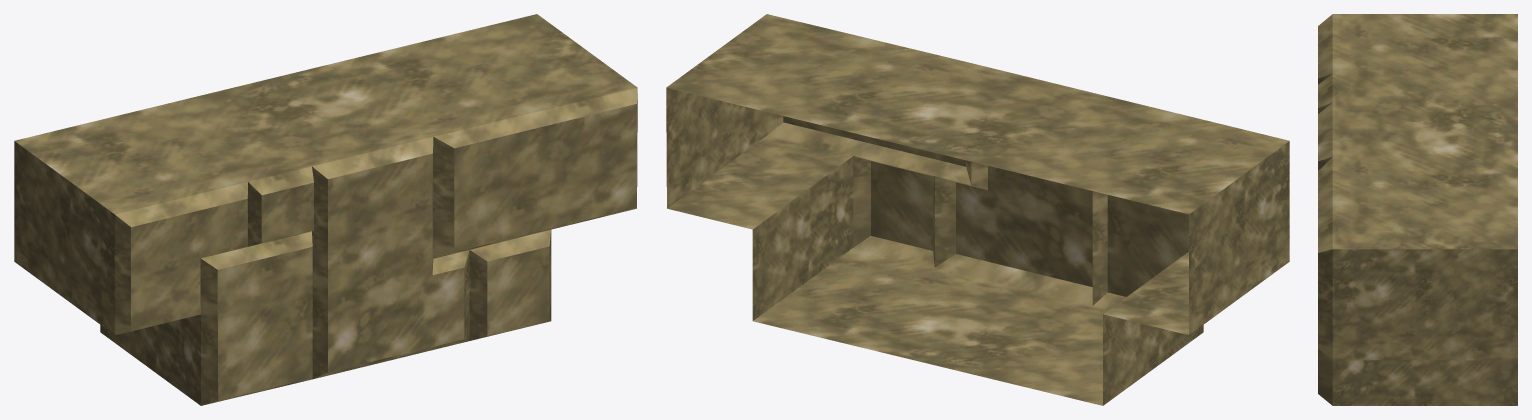
File: HangedCeilingA_bake.dae
The picture shows the model from 3 angles, left to right: view 1: azimuth 30°, elevation 25°; view 2: azimuth 150°, elevation 25°; view 3: azimuth 270°, elevation 25°; orthographic projection. The views are drawn at different scales.
Parts seen in each view (by area): view 1: m0; view 2: m0; view 3: m0.
Boxes of the visible parts, <box> form: m0: <box>14,14,637,405</box>; m0: <box>666,14,1289,405</box>; m0: <box>1318,14,1517,405</box>.
Size of the model in its own units: 1800 by 702 by 647.
2 materials, 2 textured.
